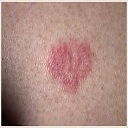Bowen: (49, 39, 91, 88)
